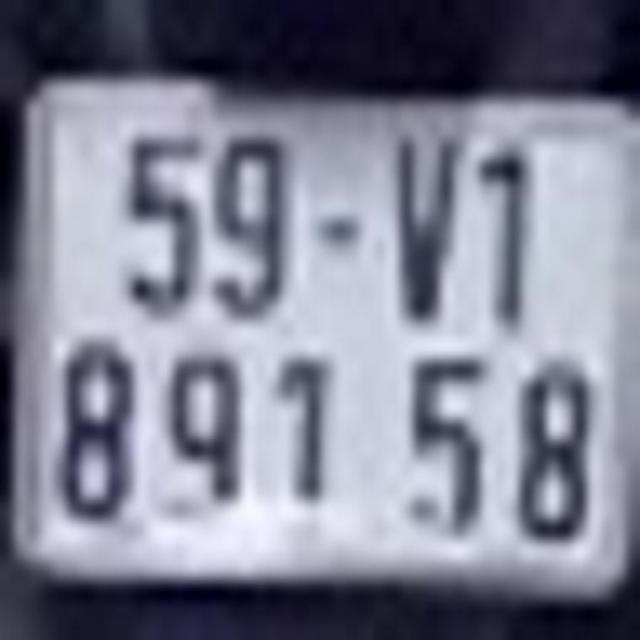1: (270, 344, 334, 511), (480, 143, 530, 339)
5: (400, 345, 494, 554), (126, 130, 204, 316)
8: (59, 334, 141, 540), (521, 358, 594, 550)
9: (204, 123, 294, 319), (158, 339, 245, 536)
V: (391, 138, 465, 328)
